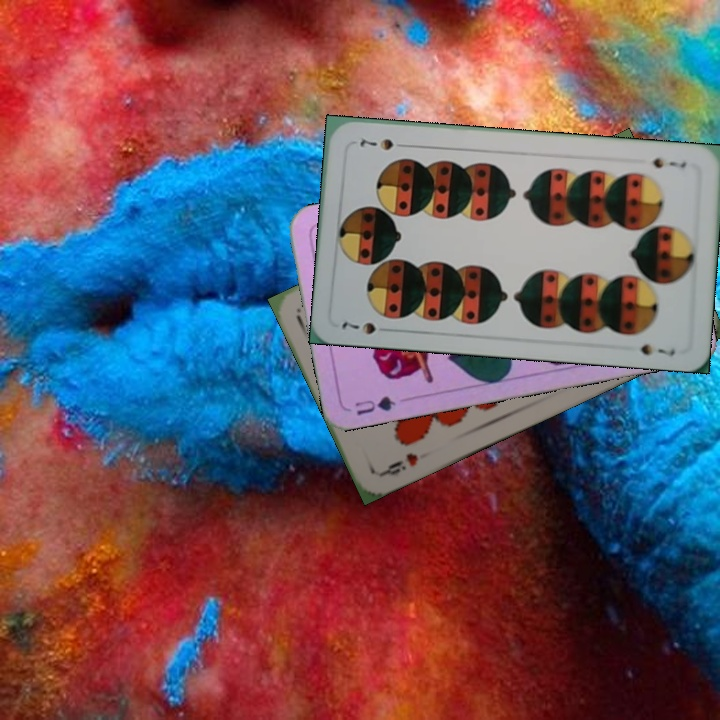GU: (350, 391, 398, 419)
H9: (377, 449, 421, 479)
S7: (337, 317, 378, 337), (649, 153, 689, 171)
